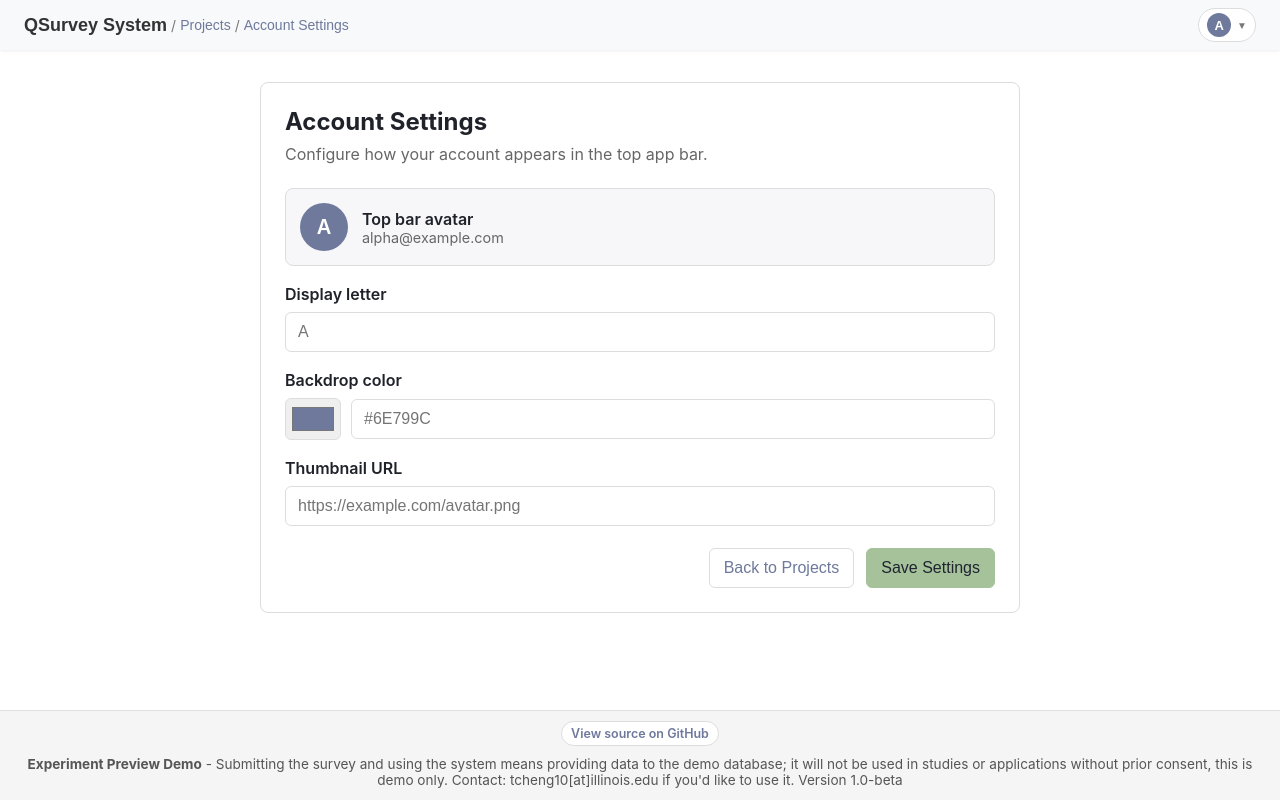
Test: AccountSettingsPage › still reports saved settings when localStorage persistence fails
The image size is (1280, 800).
Step 1. Type "z" into the field labelled "Display letter" → {"x": 640, "y": 332}, box [285,312,995,352]
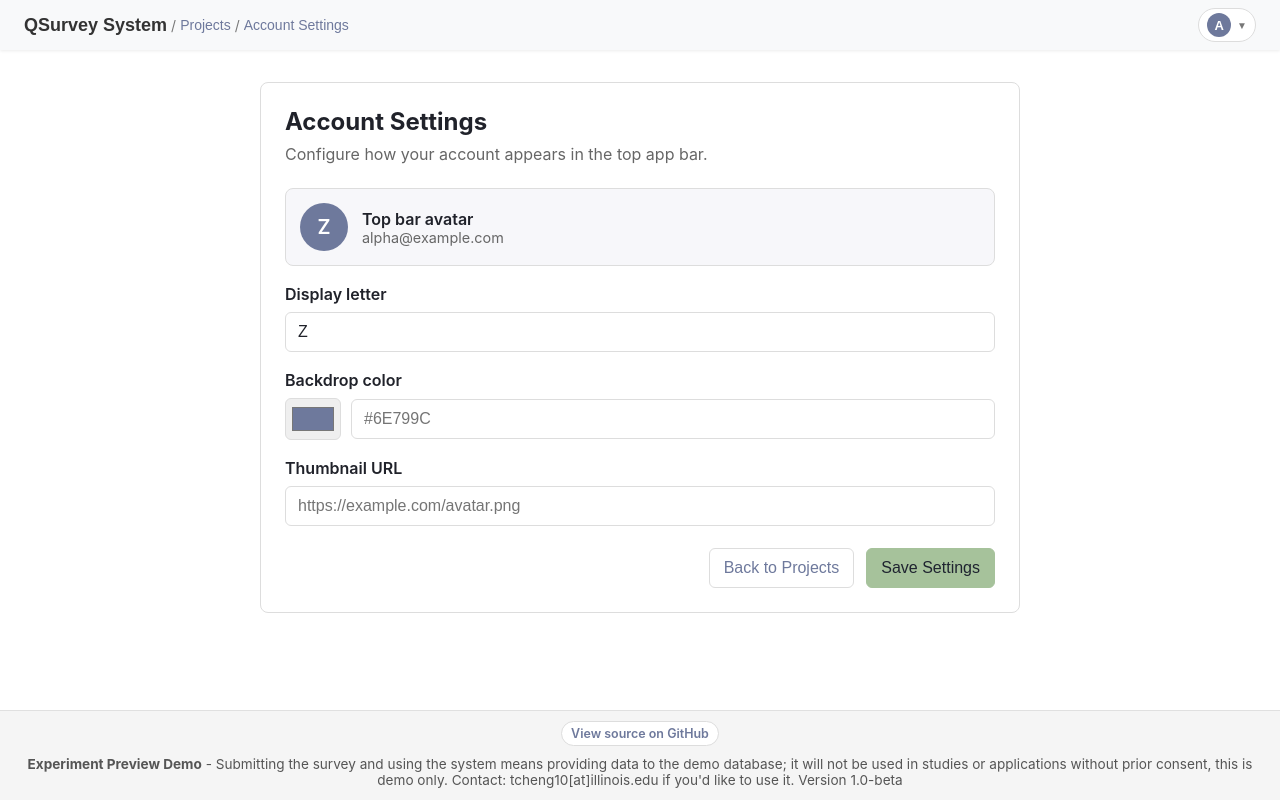
Step 2. Click the button "Save Settings" → {"x": 931, "y": 568}, box [866,548,995,588]
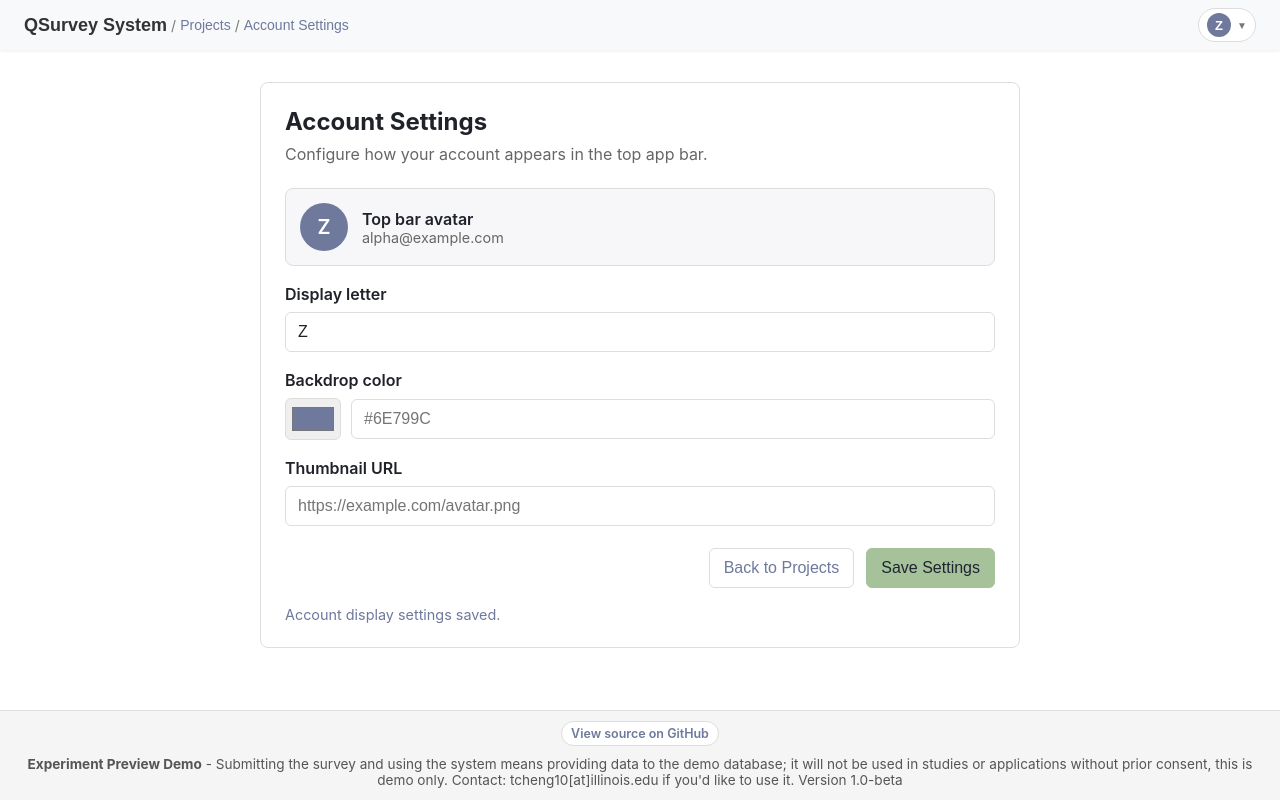
Now the message reads "Account display settings saved.", box [285,606,500,623]
Now the button named "Account menu" shows "Z", box [1198,8,1256,42]
